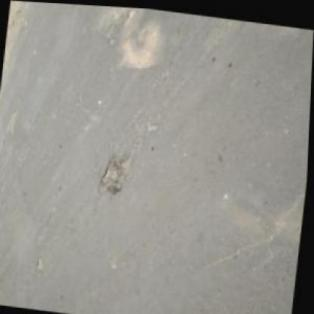Hueco: (97, 150, 136, 199), (4, 107, 20, 137), (38, 254, 47, 272)
